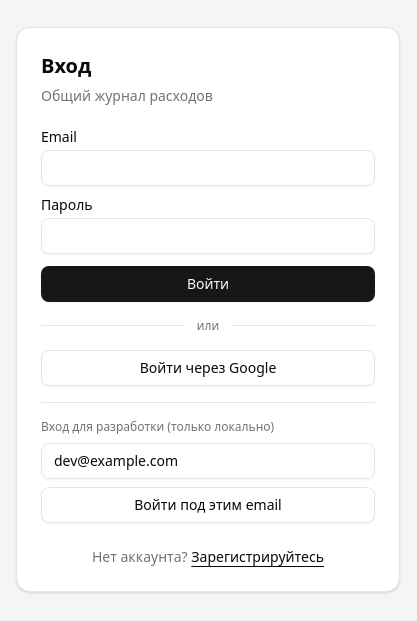
Test: LoginPage — credentials form › rejects a malformed email
Type "not-an-email" into the field labelled "Email". click: (208, 168)
box: [41, 150, 375, 186]
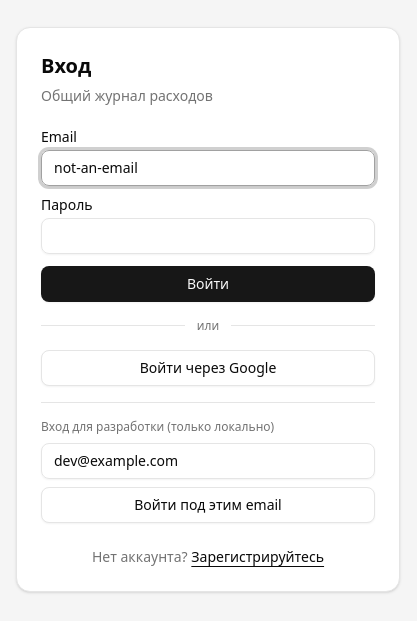
Type "whatever" into the password field labelled "Пароль". click: (208, 236)
box: [41, 218, 375, 254]
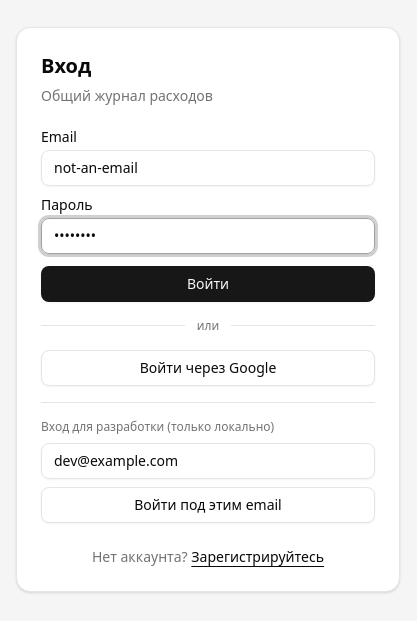
Click the button "Войти". click: (208, 284)
box: [41, 266, 375, 302]
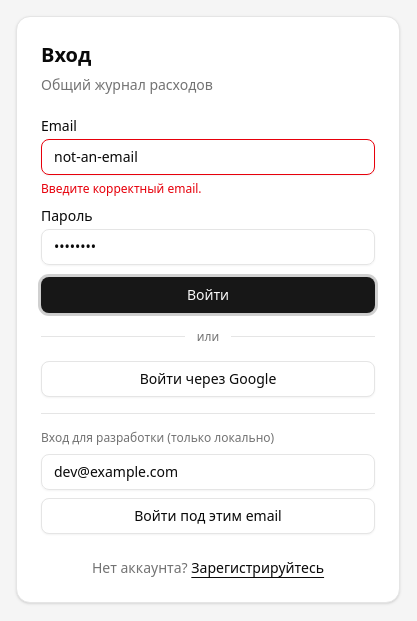
Result: the text "Введите корректный email." is shown at [41, 180, 202, 196]
